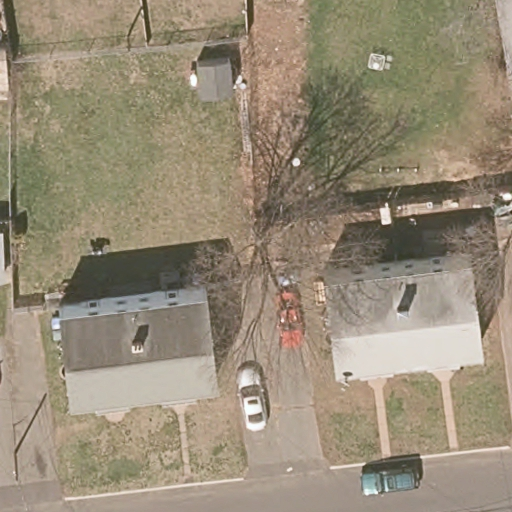DT: (12, 447, 22, 485)
